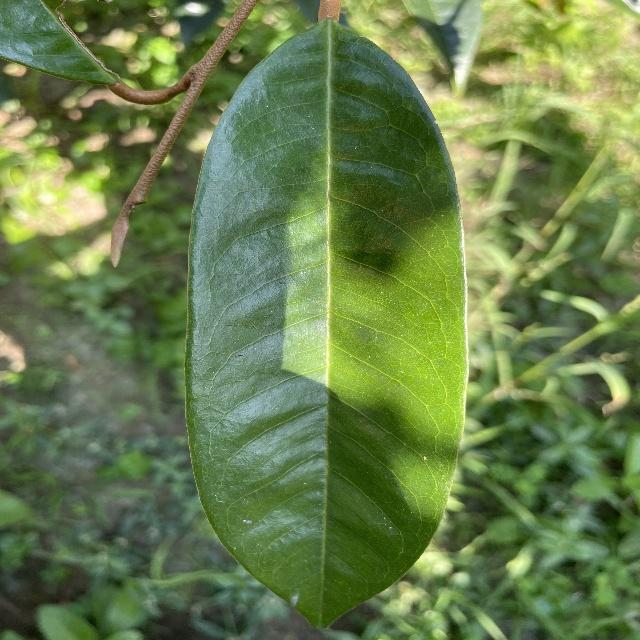No Disease: (177, 13, 477, 640)
